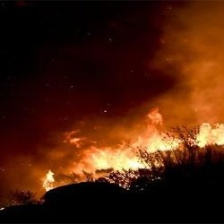fire: (33, 108, 224, 197)
